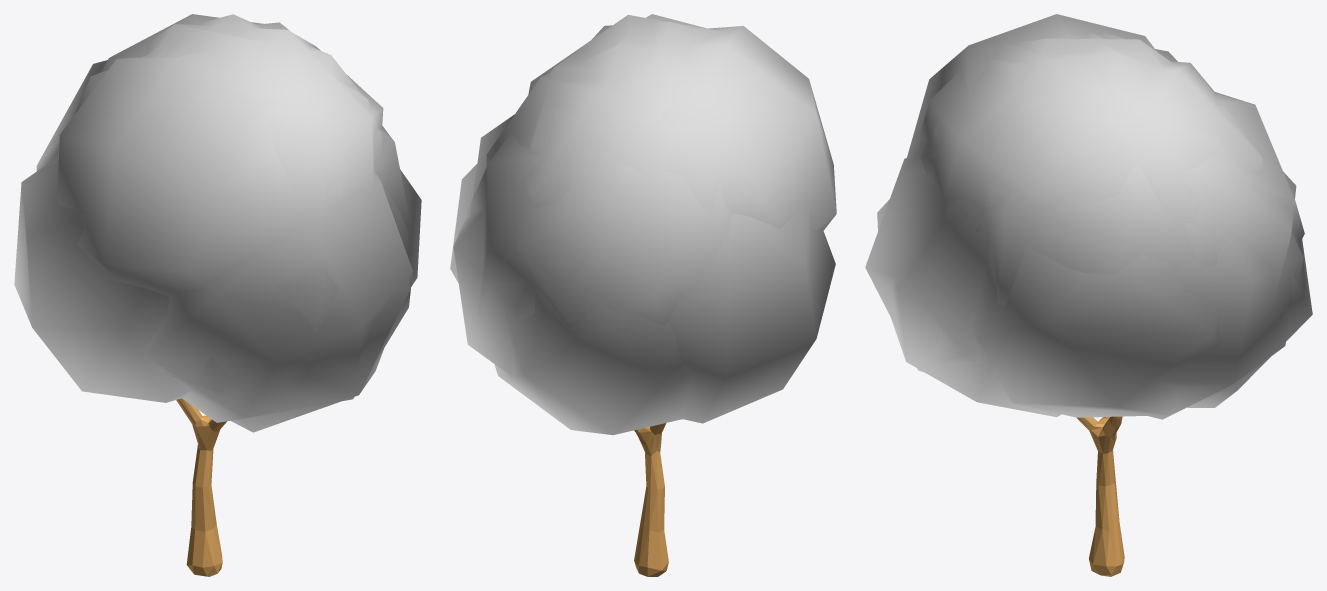
The model's file is tree5.fbx.
The picture shows the model from 3 angles, left to right: view 1: azimuth 30°, elevation 25°; view 2: azimuth 150°, elevation 25°; view 3: azimuth 270°, elevation 25°; orthographic projection. The views are drawn at different scales.
Parts seen in each view (by area): view 1: Cube.001, Cube; view 2: Cube.001, Cube; view 3: Cube.001, Cube.
Boxes of the visible parts, <box> form: Cube.001: <box>14,14,421,432</box>; Cube: <box>176,398,226,576</box>; Cube.001: <box>450,14,836,435</box>; Cube: <box>634,423,668,576</box>; Cube.001: <box>865,14,1312,419</box>; Cube: <box>1076,416,1124,576</box>.
Bounding box in the file's own units: 3024 × 4445 × 3330.
